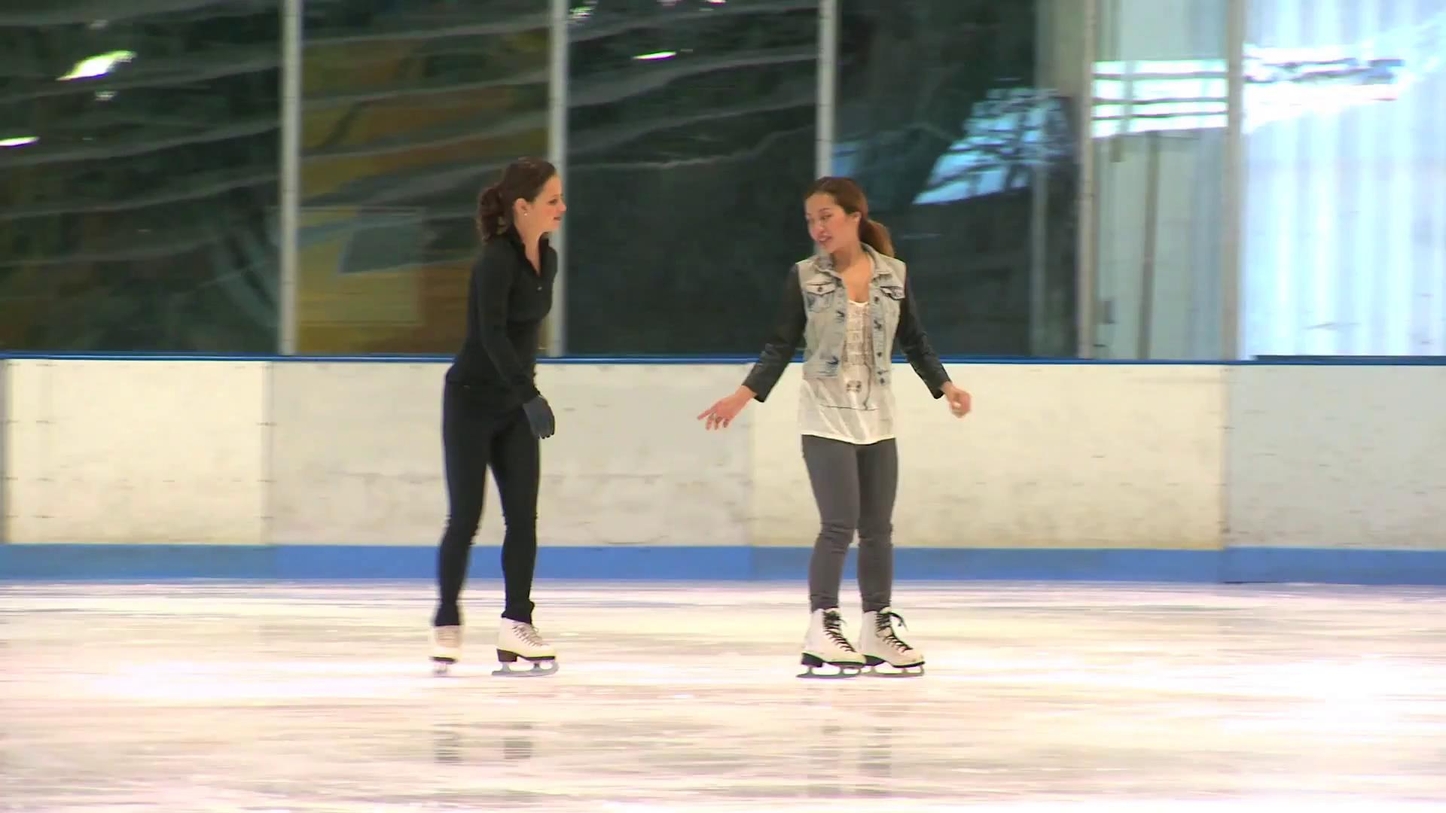victim: (689, 171, 977, 688), (423, 155, 579, 682)
